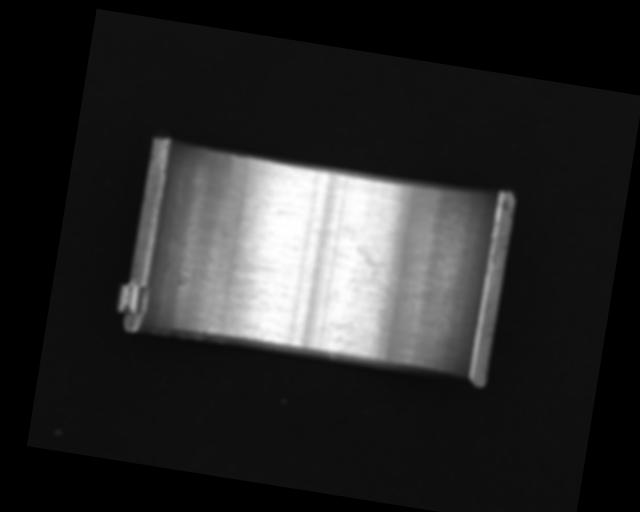blot: (346, 243, 394, 295)
